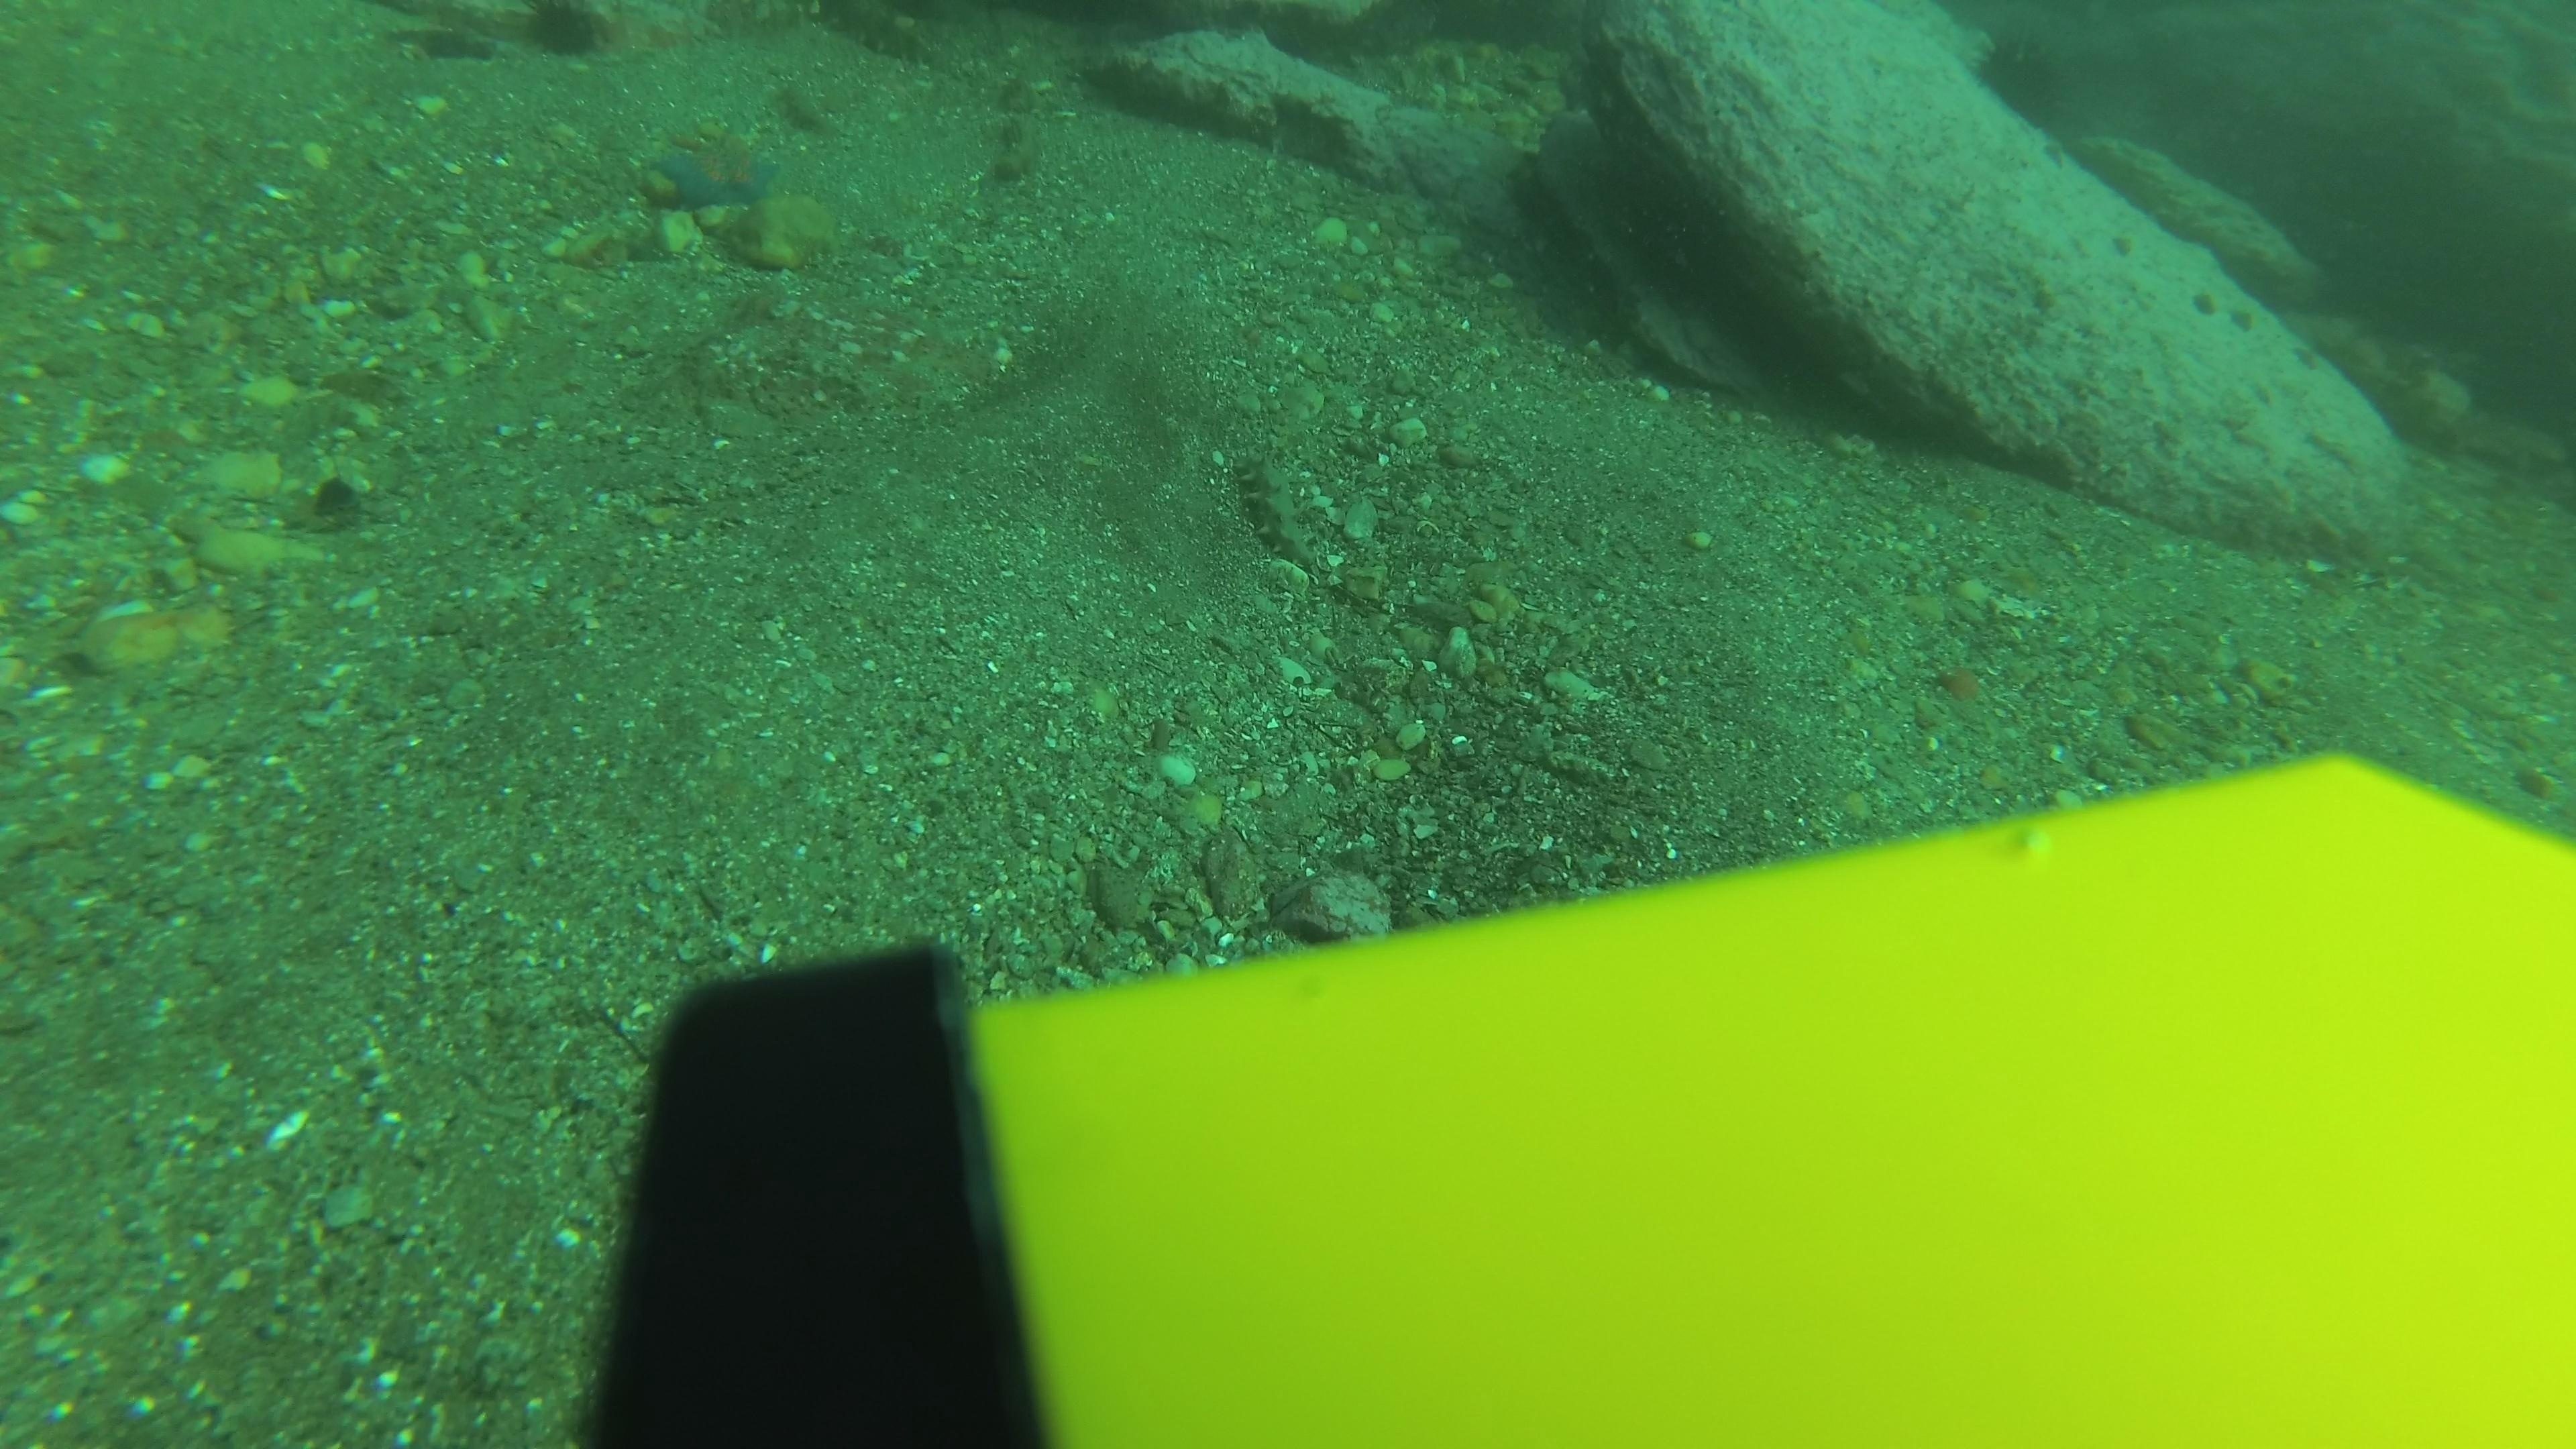echinus: (1967, 30, 2077, 131), (515, 0, 616, 62)
holothurian: (1228, 449, 1334, 594)
starfish: (642, 127, 782, 216)
